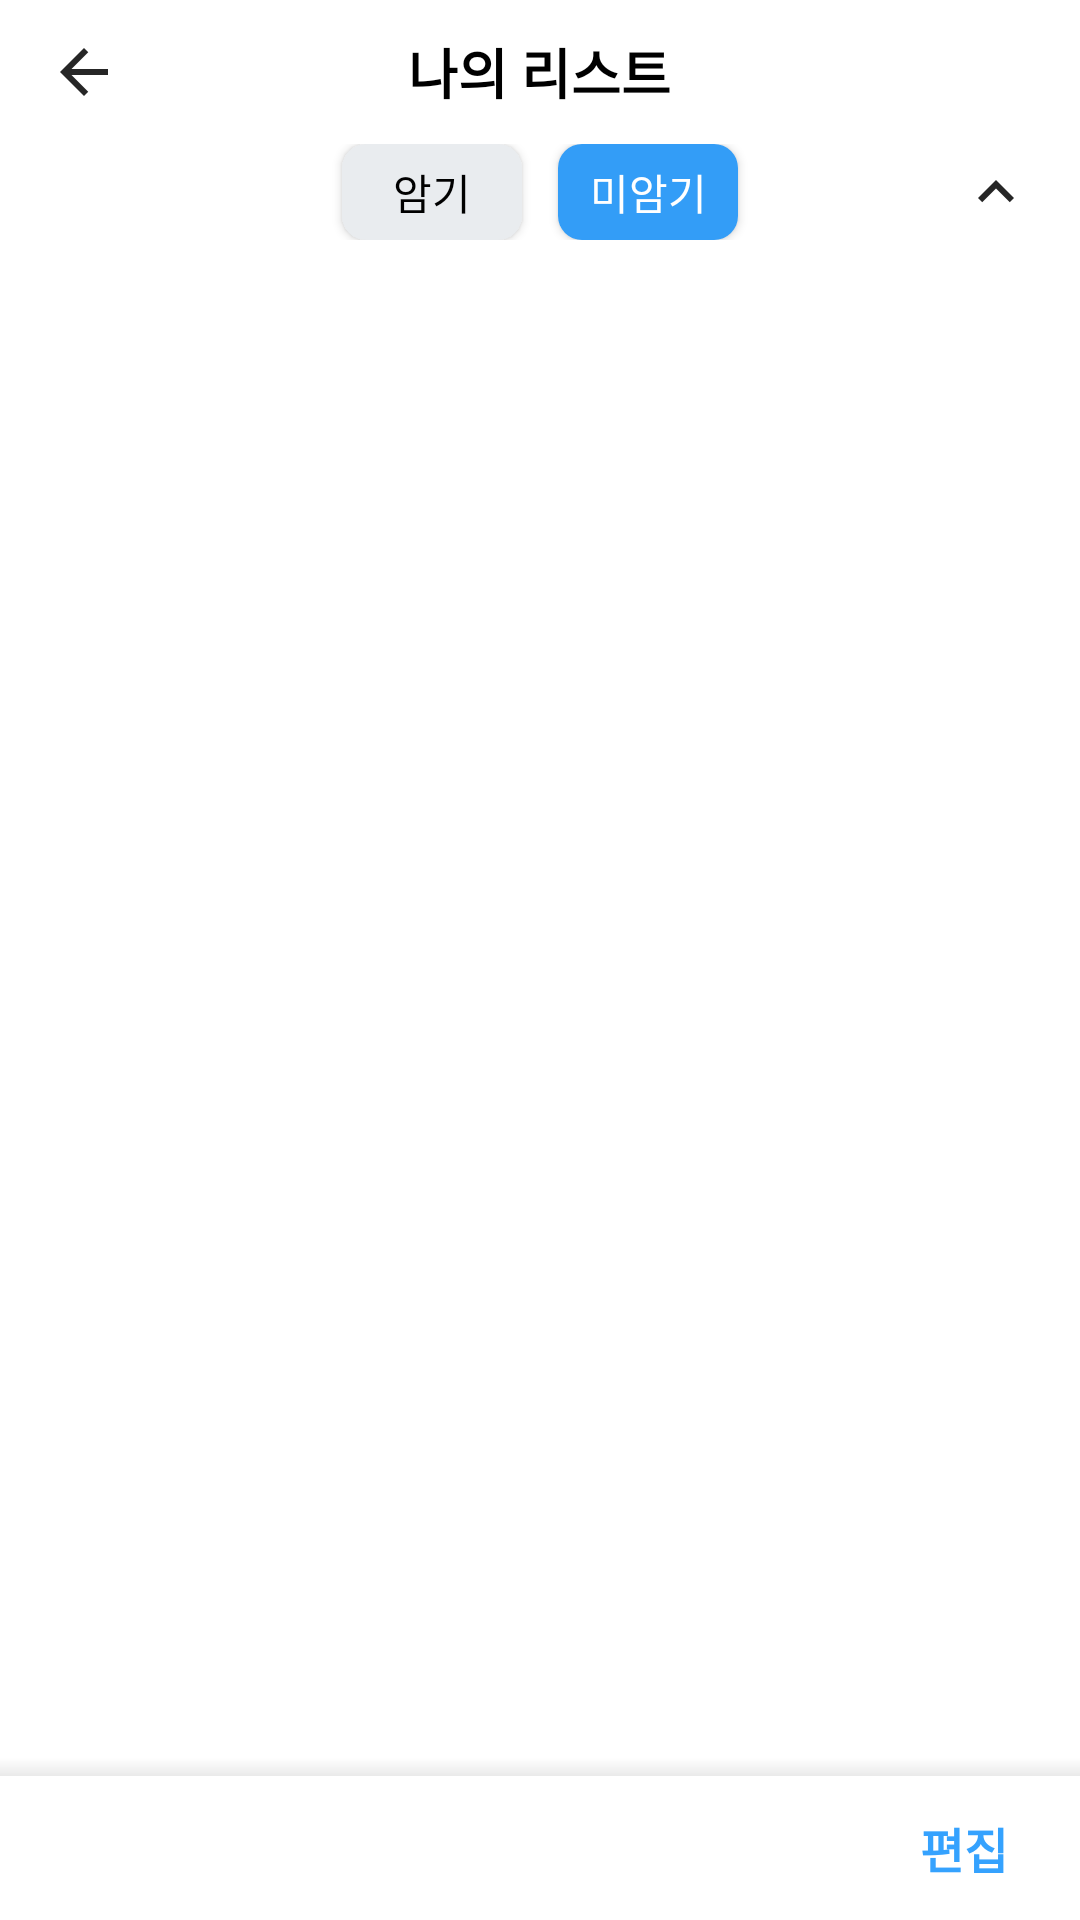

Point at icon controls on the screen. Image size 1080 × 1920, points as [x,y].
arrow back: [84,72]
arrow up: [996,191]
